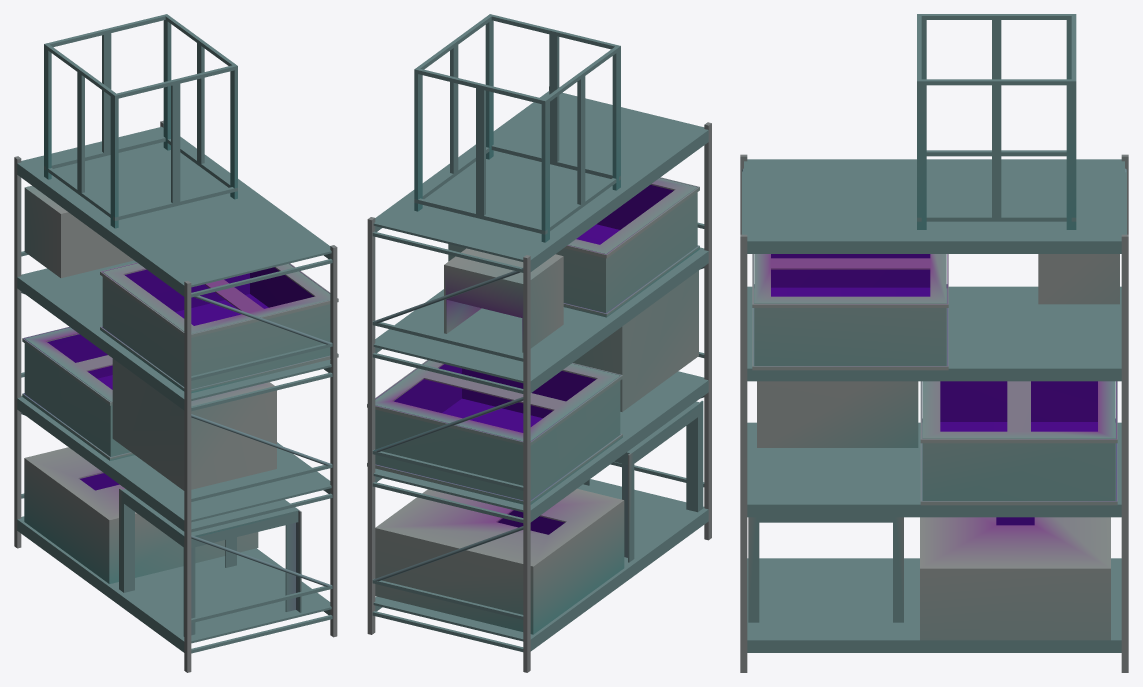
File: simready-rack_composition_a06.glb
3 views of the same model, side by side, from view 1: azimuth 30°, elevation 25°; view 2: azimuth 150°, elevation 25°; view 3: azimuth 270°, elevation 25° (orthographic). The views are drawn at different scales.
Visible parts, largest first — view 1: deck.003, upper_body, bin_body, hopper_body, deck, middle_body, deck.001, deck.002, small_bin, upright, upright.002, upright.001 (+35 smaller); view 2: hopper_body, deck.003, middle_body, upper_body, deck.002, bin_body, small_bin, deck, deck.001, upright.003, upright.001, upright (+36 smaller); view 3: deck.003, hopper_body, middle_body, upper_body, deck, deck.002, deck.001, bin_body, small_bin, long_beam.001, long_beam.003, long_beam.005 (+18 smaller).
Boxes of the visible parts, <box> form: deck.003: <box>17,126,331,287</box>; upper_body: <box>102,263,330,389</box>; bin_body: <box>112,358,276,490</box>; hopper_body: <box>24,447,258,583</box>; deck: <box>17,516,331,643</box>; middle_body: <box>24,327,130,456</box>; deck.001: <box>17,395,331,522</box>; deck.002: <box>17,260,331,400</box>; small_bin: <box>24,185,133,278</box>; upright: <box>184,280,191,672</box>; upright.002: <box>330,245,337,637</box>; upright.001: <box>14,156,21,548</box>; hopper_body: <box>375,488,624,634</box>; deck.003: <box>373,91,708,261</box>; middle_body: <box>375,360,620,500</box>; upper_body: <box>448,178,697,312</box>; deck.002: <box>373,247,708,383</box>; bin_body: <box>573,270,698,411</box>; small_bin: <box>444,248,563,352</box>; deck: <box>373,479,708,641</box>; deck.001: <box>373,371,708,512</box>; upright.003: <box>367,217,375,634</box>; upright.001: <box>523,255,530,672</box>; upright: <box>704,122,711,540</box>; deck.003: <box>744,159,1124,243</box>; hopper_body: <box>920,517,1110,640</box>; middle_body: <box>922,381,1115,500</box>; upper_body: <box>754,254,946,365</box>; deck: <box>747,558,1121,642</box>; deck.002: <box>747,286,1121,370</box>; deck.001: <box>747,422,1121,506</box>; bin_body: <box>757,381,918,447</box>; small_bin: <box>1038,254,1119,304</box>; long_beam.001: <box>747,642,1121,652</box>; long_beam.003: <box>747,507,1121,517</box>; long_beam.005: <box>747,371,1121,381</box>.
Bounding box in the file's own units: 1.28 × 4.03 × 2.44.
